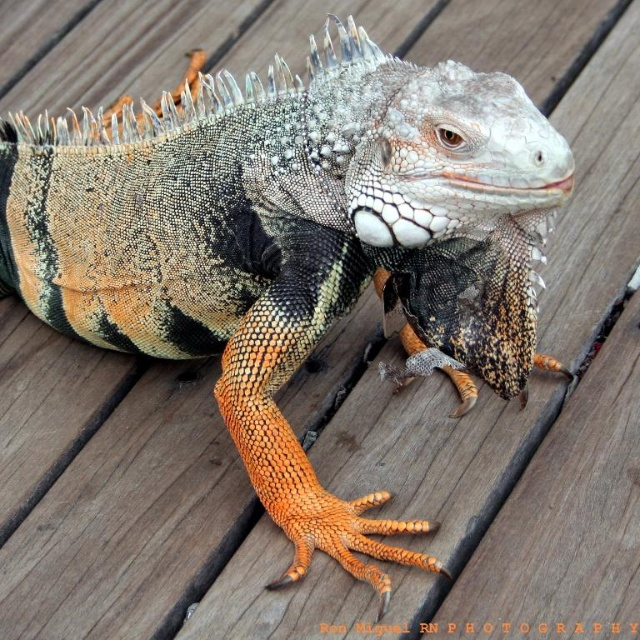Lizard: (6, 6, 581, 619)
